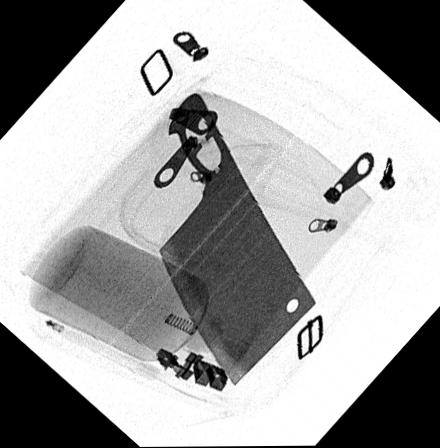Knife: (157, 91, 315, 386)
